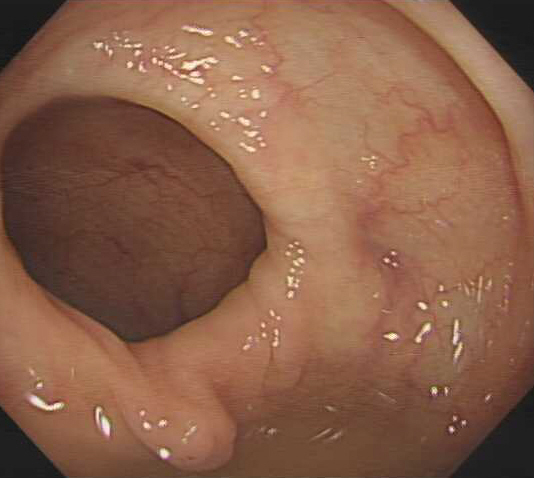adenoma: (103, 381, 242, 476)
